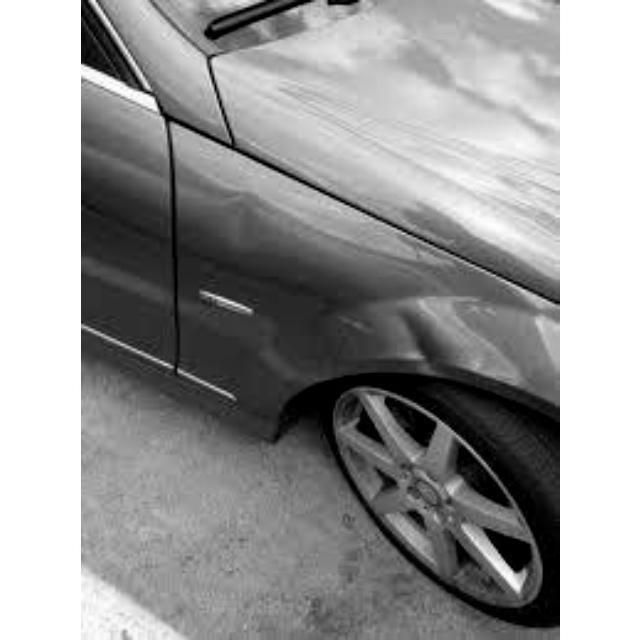fender-dent: (172, 228, 535, 442)
